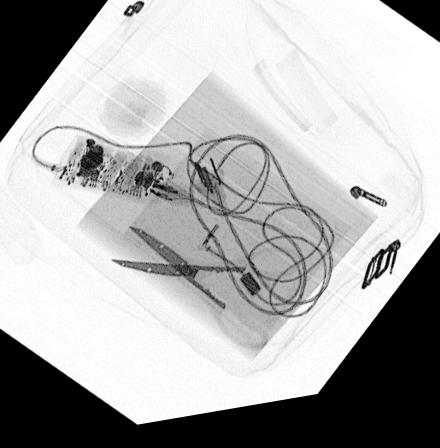Scissors: (108, 232, 303, 361)
